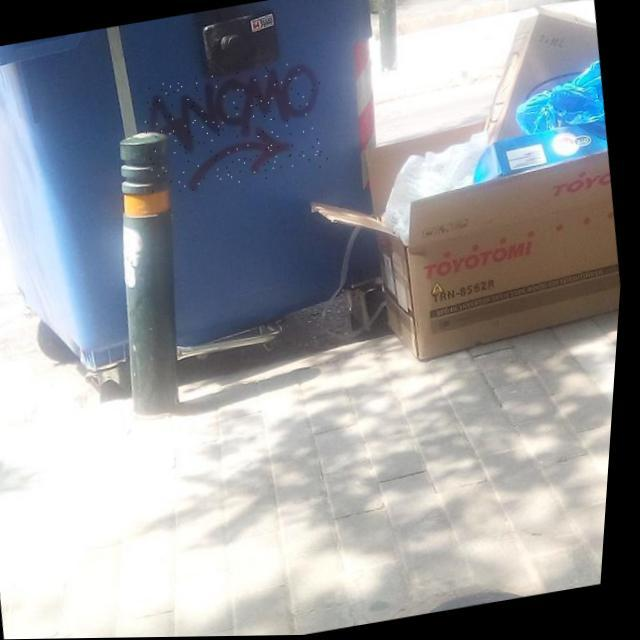-: (136, 57, 337, 199)
